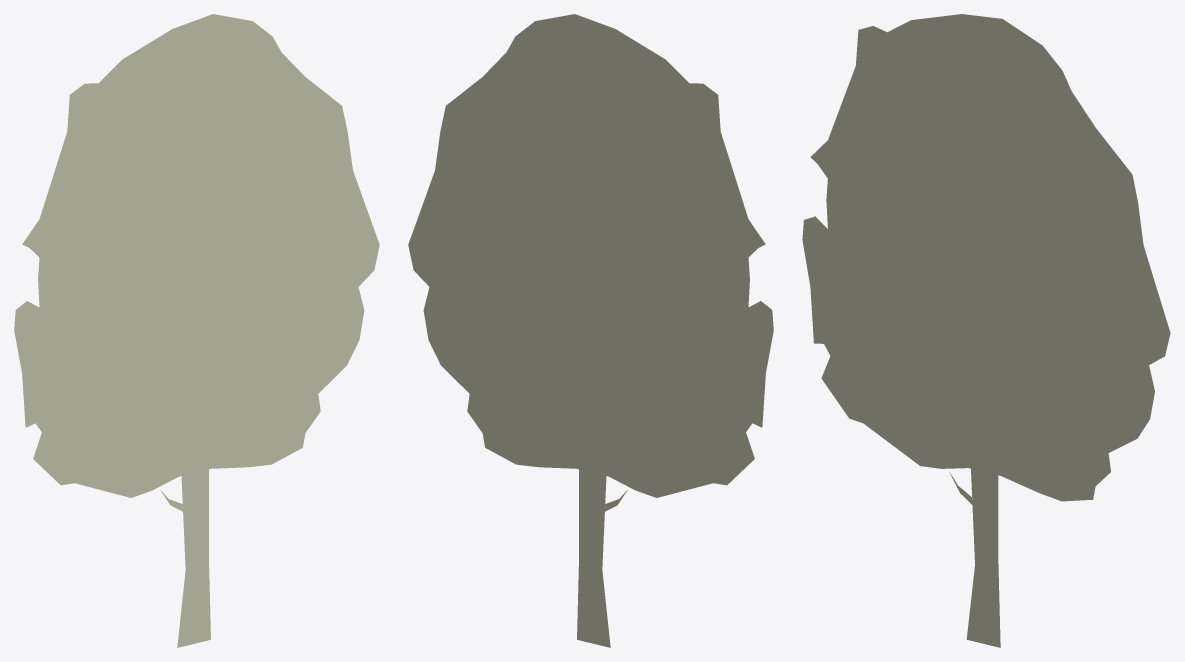
Rendered from deciduous-tree.dae.
3 views of the same model, side by side, from view 1: azimuth 30°, elevation 25°; view 2: azimuth 150°, elevation 25°; view 3: azimuth 330°, elevation 25° (orthographic).
Visible parts, largest first — view 1: TreeCanopy, TreeTrunk; view 2: TreeCanopy, TreeTrunk; view 3: TreeCanopy, TreeTrunk.
Part boxes in pixels (box(x1,y1,x2,y2)): TreeCanopy: box(14, 14, 379, 497); TreeTrunk: box(177, 469, 210, 647); TreeCanopy: box(408, 14, 773, 497); TreeTrunk: box(577, 469, 610, 647); TreeCanopy: box(802, 14, 1170, 501); TreeTrunk: box(966, 469, 1000, 647).
Bounding box in the file's own units: 224 × 7.35e-14 × 366.
